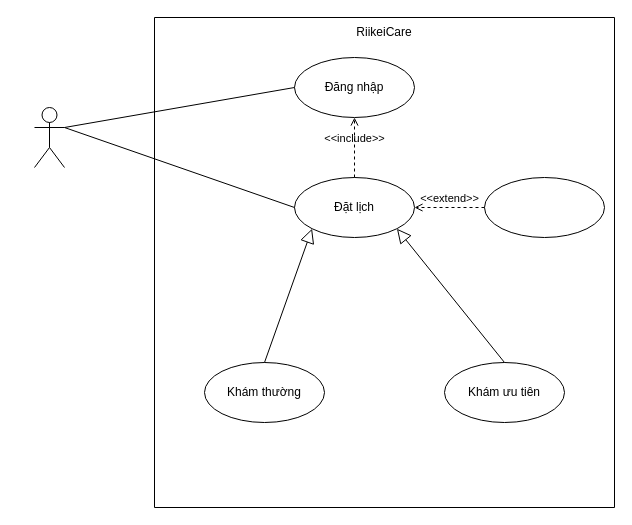
Image size: 632x525. Some labels were removed from this diagram. The centre of each missing label's shape, as x and y in pixels:
"Chọn bác sĩ" goes at [544,207].
"Khách hàng" goes at [49,137].
